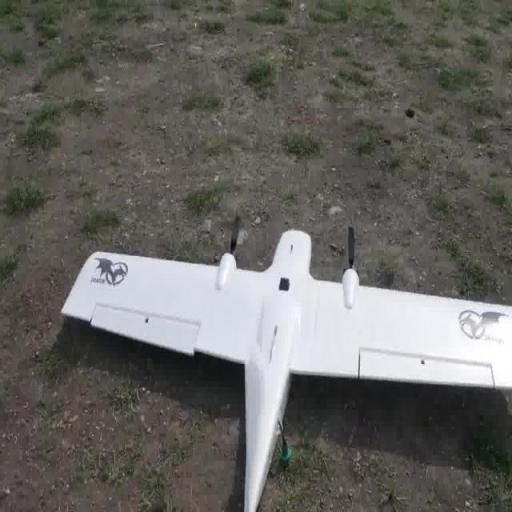uav: (58, 207, 511, 512)
